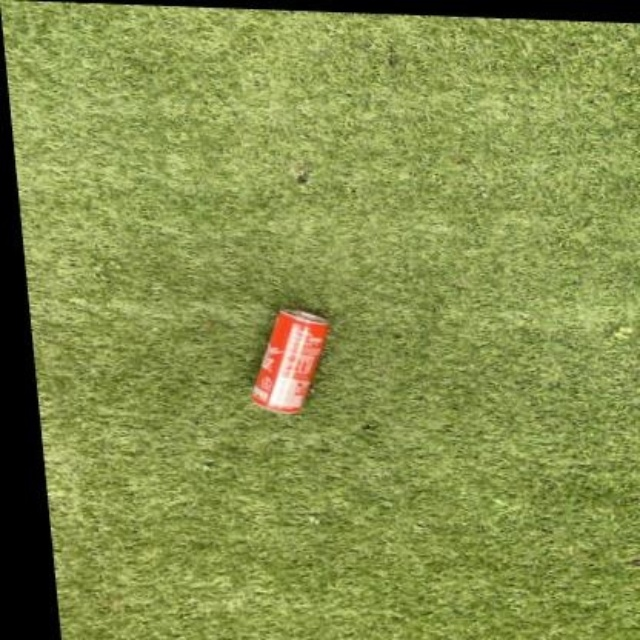trash: (251, 311, 328, 411)
